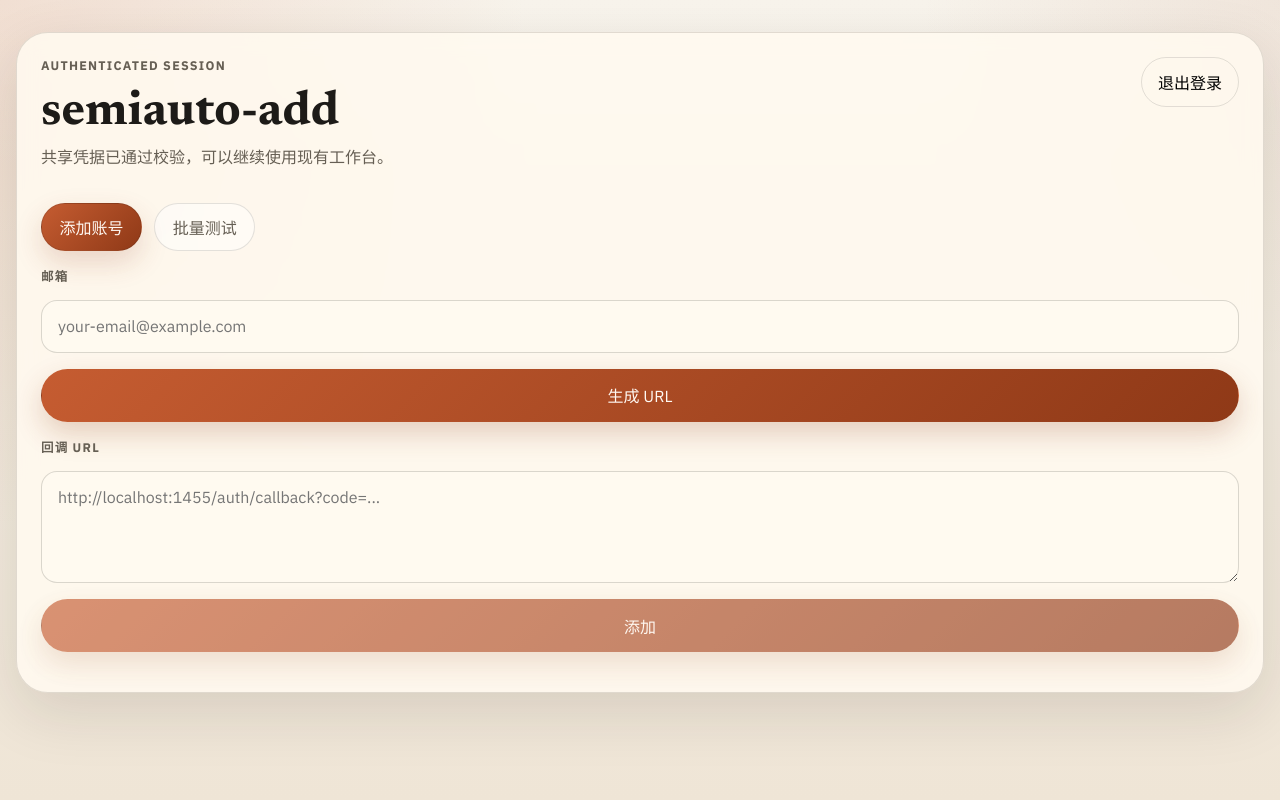
Test: SemiAutoWorkbench batch-test tab › renders icon action buttons with labels
What coordinates should you click on to do the following:
click the tab "批量测试"
I would click on:
 (205, 227)
Its box is [154,203,255,251].
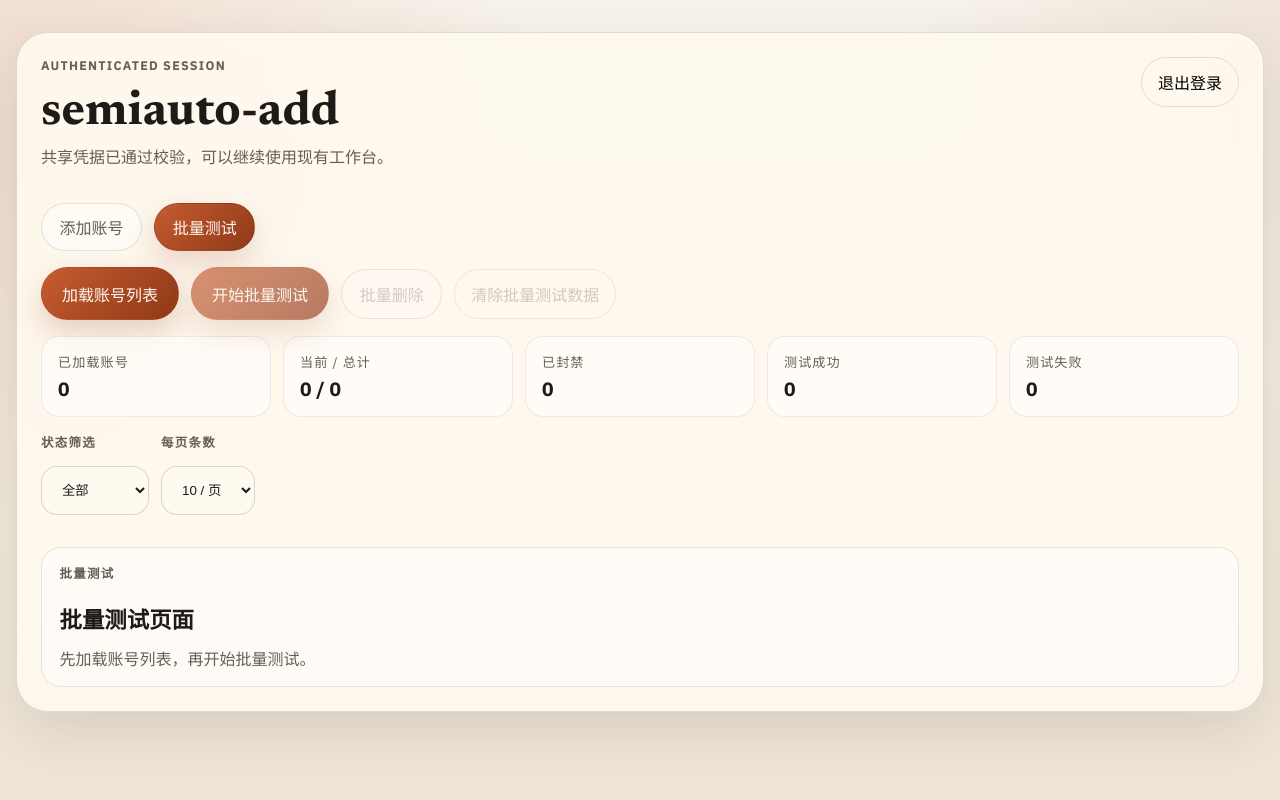
What coordinates should you click on to do the following:
click the button "加载账号列表"
I would click on:
 (110, 294)
Its box is [41,267,179,320].
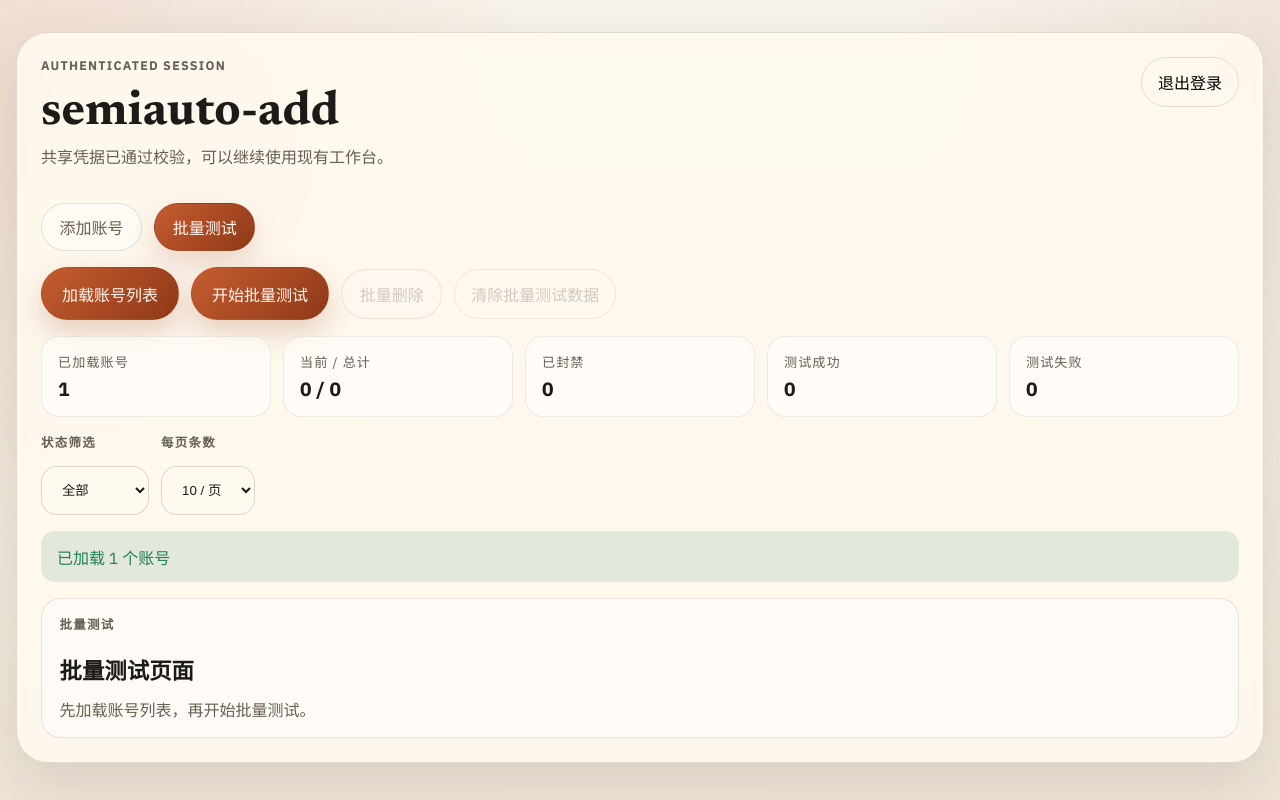
expect the text "已加载 1 个账号" is shown: met, box [41,531,1239,582]
What coordinates should you click on to do the following:
click the button "开始批量测试"
I would click on:
 (260, 294)
Its box is [191,267,329,320].
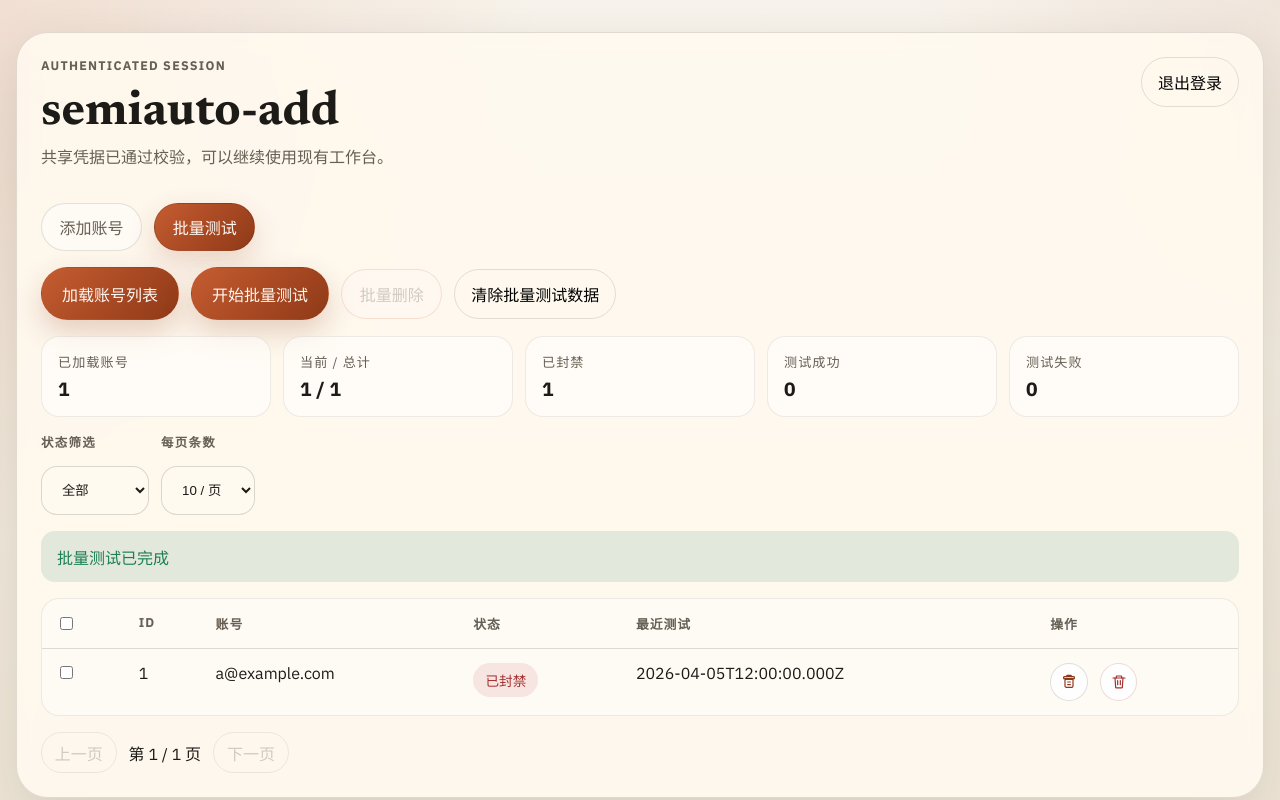
expect the text "a@example.com" is shown: met, box [202,649,460,716]
expect the button named "测试账号 1" is shown: met, box [1050,664,1088,701]
expect the button named "删除账号 1" is shown: met, box [1100,664,1137,701]
